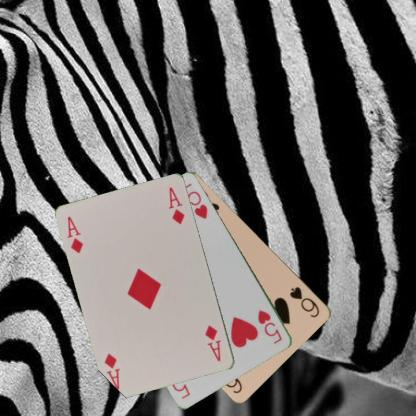5h: (255, 308, 284, 346)
6s: (287, 284, 321, 319)
Ad: (202, 322, 223, 363), (65, 214, 85, 255)
